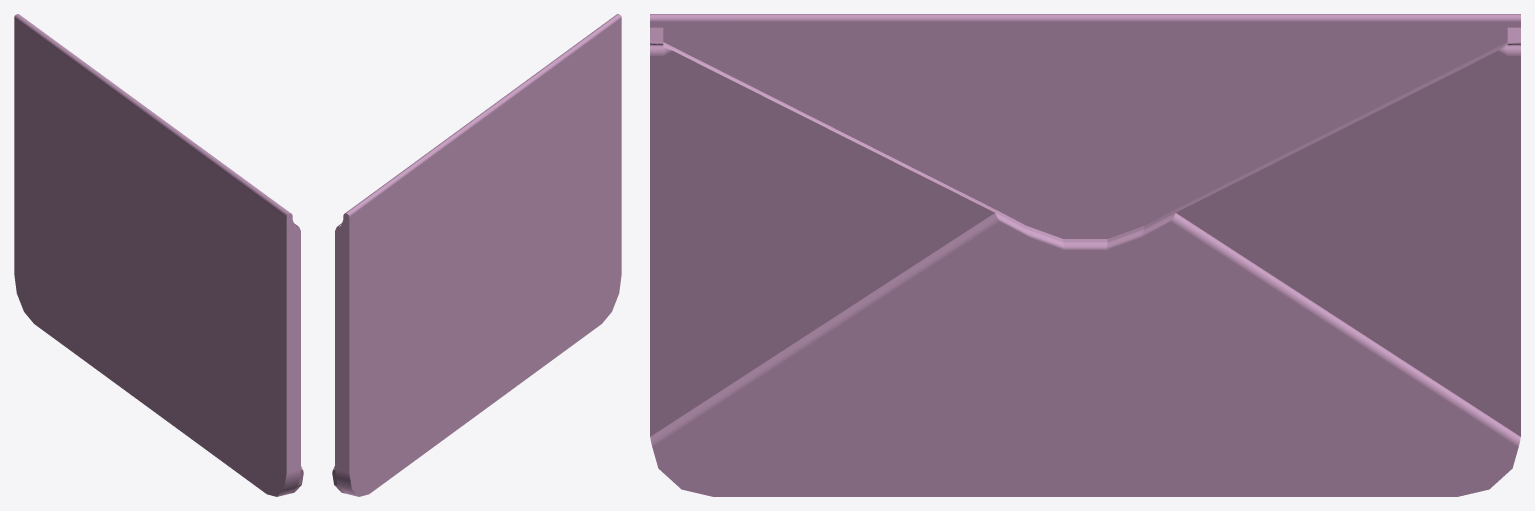
File: envelope.glb
The picture shows the model from 3 angles, left to right: view 1: azimuth 30°, elevation 25°; view 2: azimuth 150°, elevation 25°; view 3: azimuth 270°, elevation 25°; orthographic projection. The views are drawn at different scales.
Visible parts, largest first — view 1: envelope; view 2: envelope; view 3: envelope.
Boxes of the visible parts, left/top/right/bottom form: envelope: left=14, top=14, right=303, bottom=496; envelope: left=332, top=14, right=621, bottom=496; envelope: left=650, top=14, right=1520, bottom=496.
Size of the model in its own units: 0.0693 by 1.1 by 1.84.
